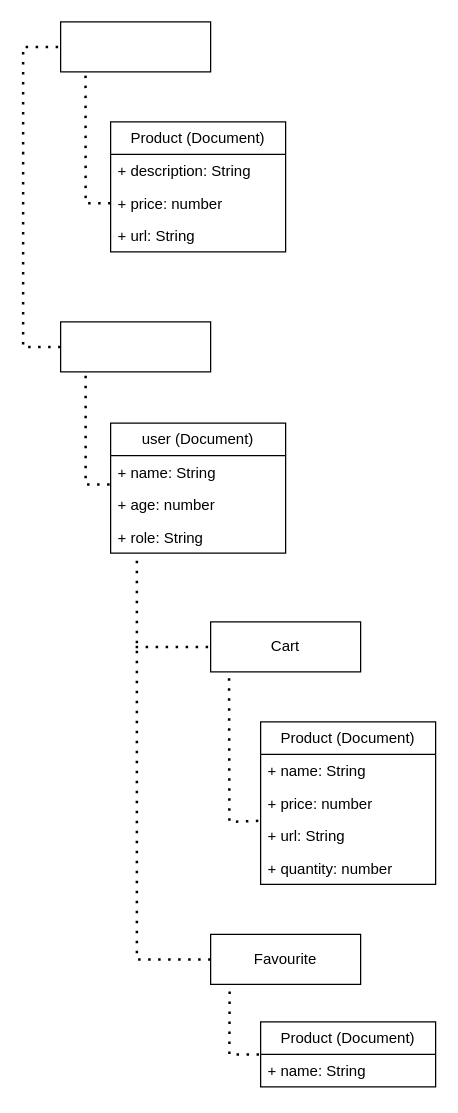
Some shapes in this 458 by 1113 pixel diagram are drawn without their labels. The box of each missing label's shape, as (x1, y1, x2, y2) in pixels:
Menu: (59, 21, 211, 72)
User: (59, 321, 211, 372)
